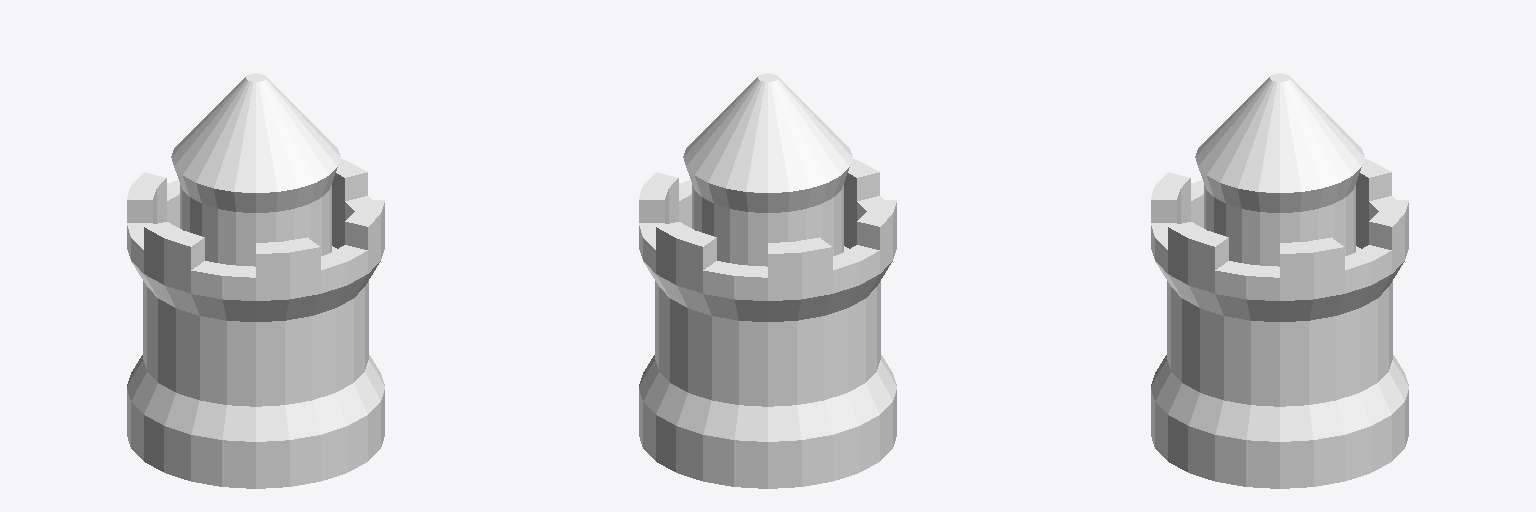
File: towerRound_sampleF.obj
The picture shows the model from 3 angles: view 1: azimuth 30°, elevation 25°; view 2: azimuth 150°, elevation 25°; view 3: azimuth 270°, elevation 25°; orthographic projection.
Parts seen in each view (by area): view 1: towerRound_sampleF; view 2: towerRound_sampleF; view 3: towerRound_sampleF.
Part boxes in pixels (left/top/right/bottom): towerRound_sampleF: left=127, top=73, right=384, bottom=488; towerRound_sampleF: left=639, top=73, right=896, bottom=488; towerRound_sampleF: left=1151, top=73, right=1408, bottom=488.
Size of the model in its own units: 1 by 1.52 by 1.